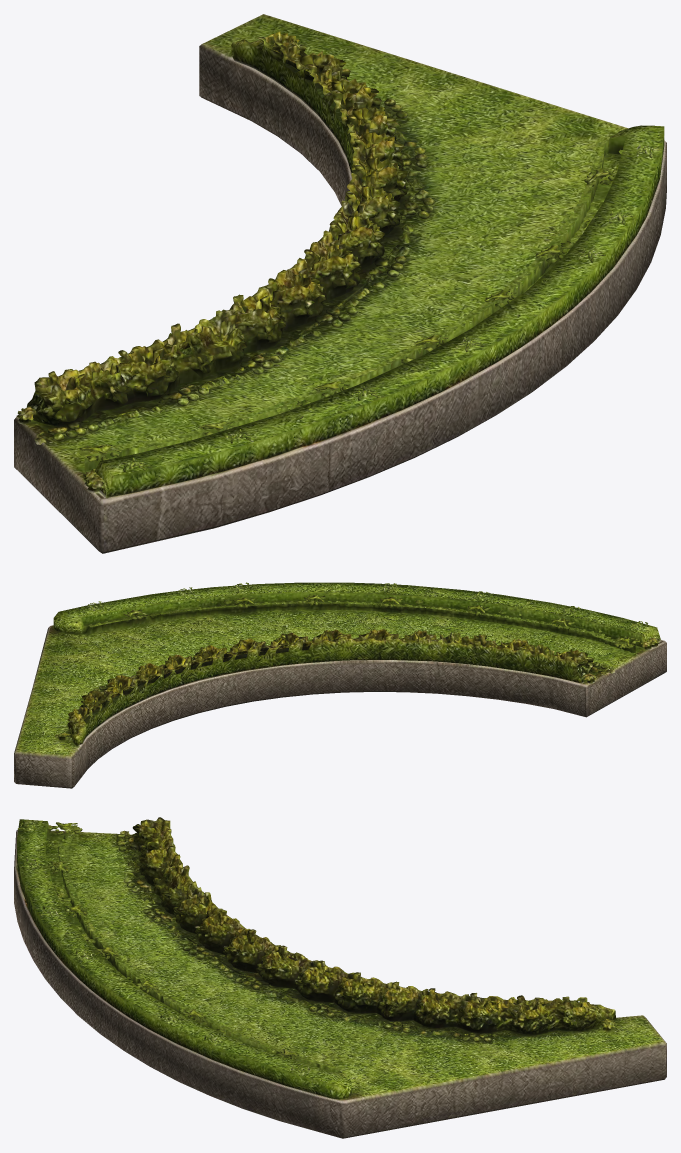
The model's file is grass_2-c2bee384f8.glb.
3 renders of one model, top to bottom at view 1: azimuth 30°, elevation 25°; view 2: azimuth 150°, elevation 25°; view 3: azimuth 270°, elevation 25°, orthographic. The views are drawn at different scales.
Parts seen in each view (by area): view 1: tripo_node_42b77f09-3aa1-4912-b9b5-8b599d451f30; view 2: tripo_node_42b77f09-3aa1-4912-b9b5-8b599d451f30; view 3: tripo_node_42b77f09-3aa1-4912-b9b5-8b599d451f30.
Part boxes in pixels (bbox=[...]): tripo_node_42b77f09-3aa1-4912-b9b5-8b599d451f30: bbox=[14, 14, 666, 553]; tripo_node_42b77f09-3aa1-4912-b9b5-8b599d451f30: bbox=[14, 582, 666, 788]; tripo_node_42b77f09-3aa1-4912-b9b5-8b599d451f30: bbox=[14, 817, 666, 1138].
Bounding box in the file's own units: 0.9927 × 0.1118 × 0.9995.
Materials: 1 (1 with a texture image).
